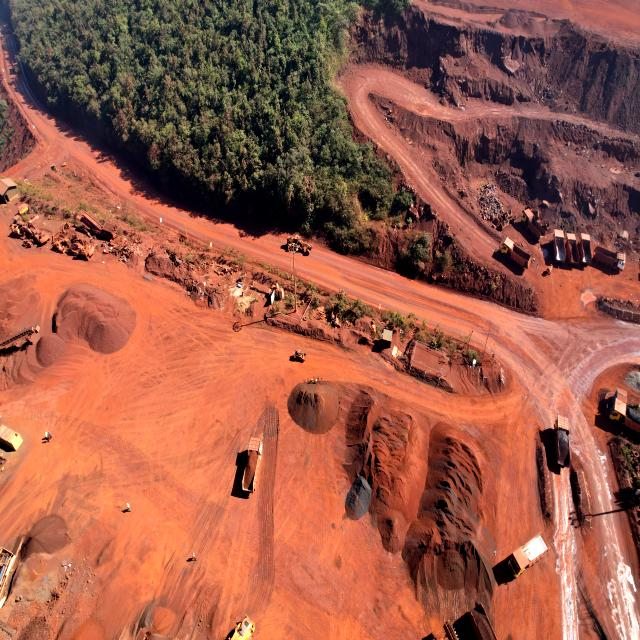Dumper truck: (507, 533, 546, 576), (554, 228, 590, 266), (240, 440, 262, 496), (551, 414, 571, 466), (467, 600, 493, 640), (500, 236, 530, 269), (594, 242, 626, 270), (610, 399, 639, 425), (0, 175, 21, 205), (523, 210, 542, 237)
person: (48, 429, 52, 439), (45, 433, 49, 443), (126, 502, 130, 511)
